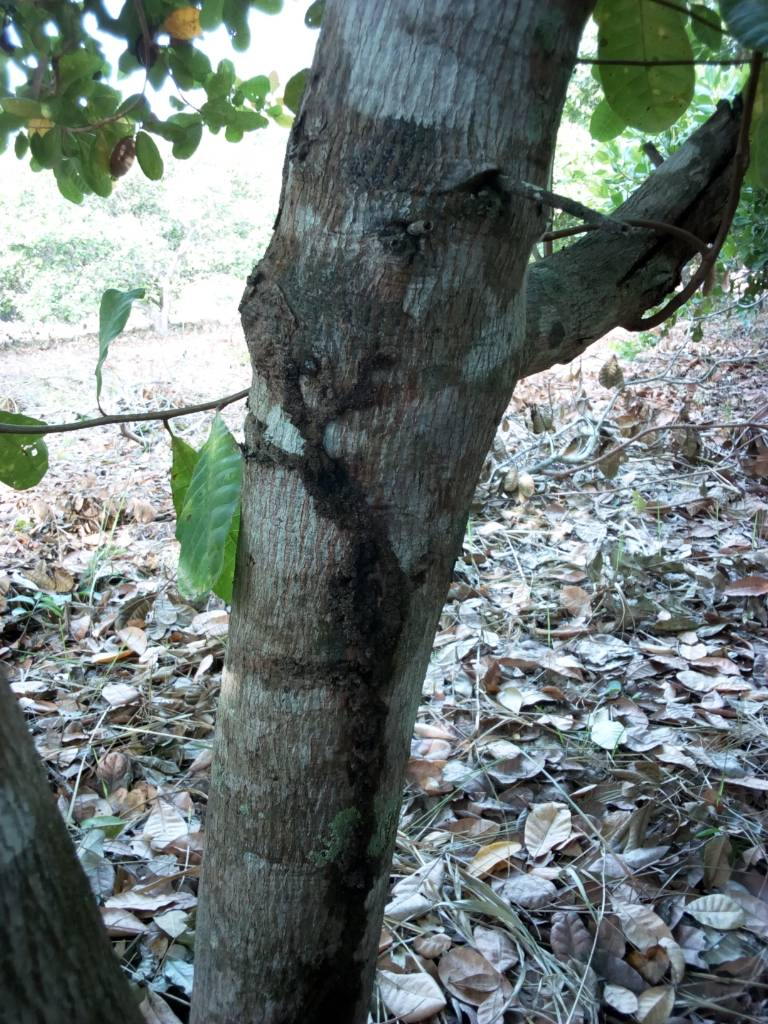Termites: (332, 536, 416, 1019), (269, 333, 396, 535)
